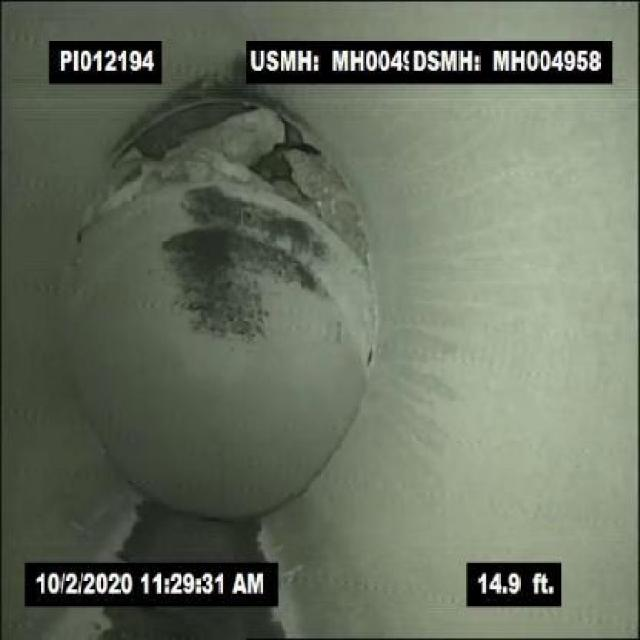Hole: (70, 84, 376, 244)
